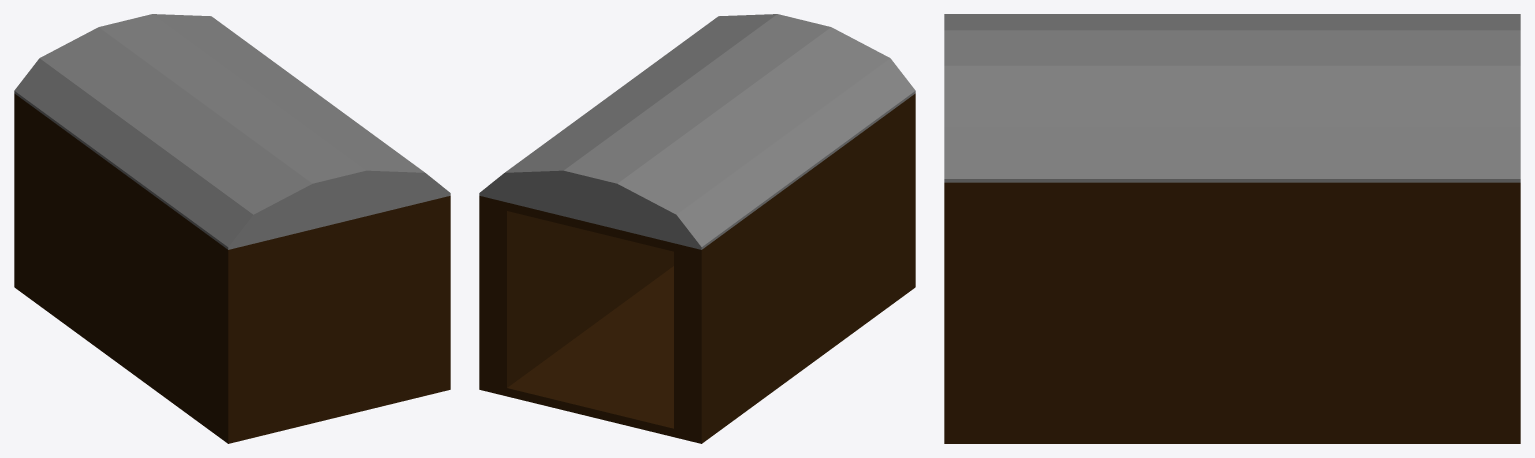
The model's file is hangar.glb.
The picture shows the model from 3 angles, left to right: view 1: azimuth 30°, elevation 25°; view 2: azimuth 150°, elevation 25°; view 3: azimuth 270°, elevation 25°; orthographic projection. The views are drawn at different scales.
Parts seen in each view (by area): view 1: hangar; view 2: hangar; view 3: hangar.
Boxes of the visible parts, x1=… form: hangar: x1=14, y1=14, x2=450, y2=443; hangar: x1=479, y1=14, x2=915, y2=443; hangar: x1=944, y1=14, x2=1520, y2=443.
Size of the model in its own units: 2.4 by 2.47 by 4.
Materials: 1 (1 with a texture image).
